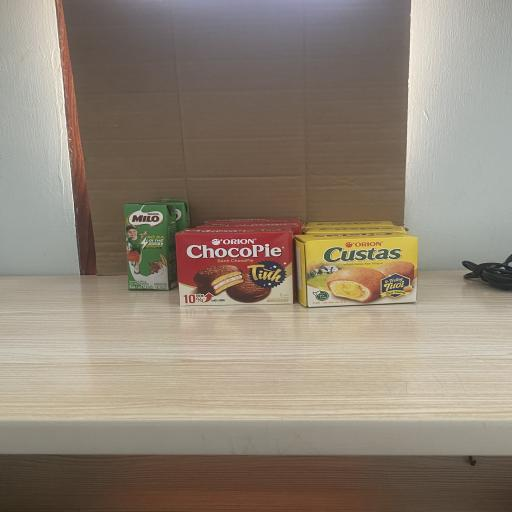chocopie: (176, 229, 294, 305), (196, 222, 301, 234), (208, 217, 306, 222)
custas: (293, 232, 418, 306), (304, 227, 409, 234), (306, 222, 394, 228)
milo: (124, 202, 178, 290), (152, 199, 190, 230)
